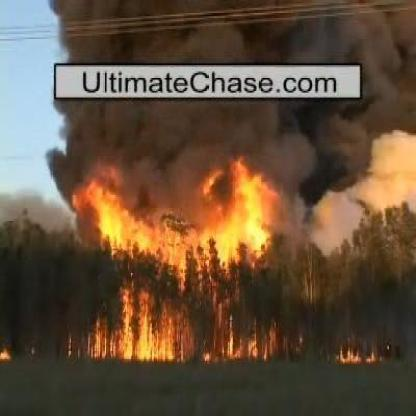-: (61, 108, 396, 167), (70, 16, 376, 60)
foggia-v2-map80-epoch100 - v1 4323: (124, 313, 158, 360)
